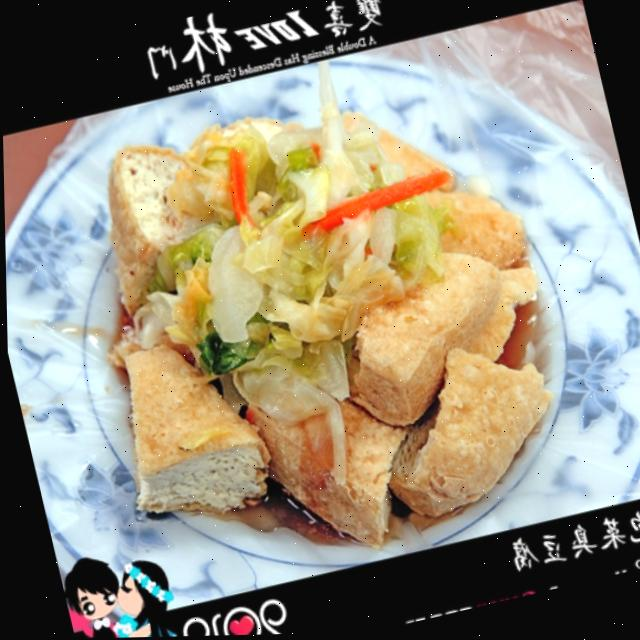豆腐料理: (4, 13, 640, 604)
